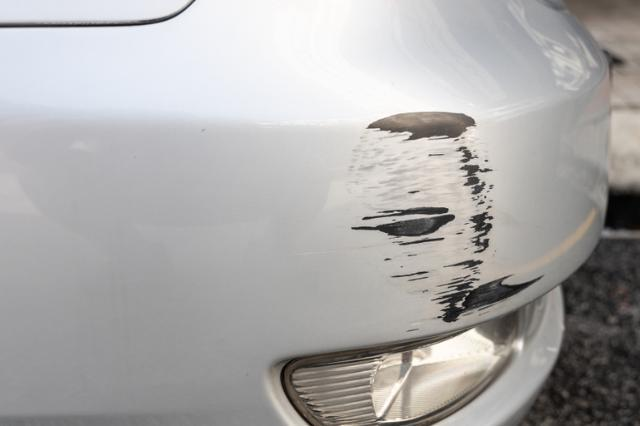Bumper: (212, 83, 640, 323)
